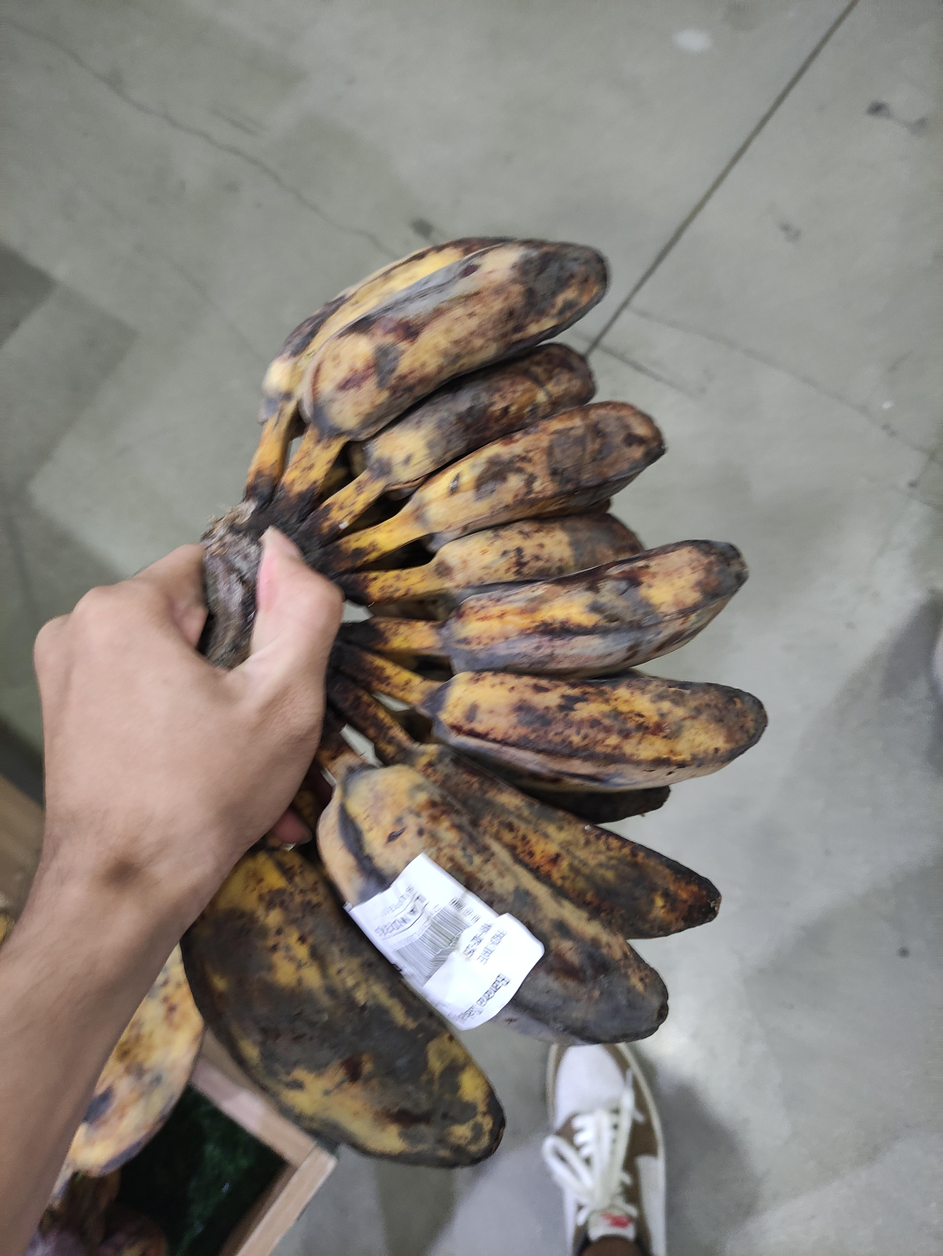ripe: (64, 239, 766, 1176)
